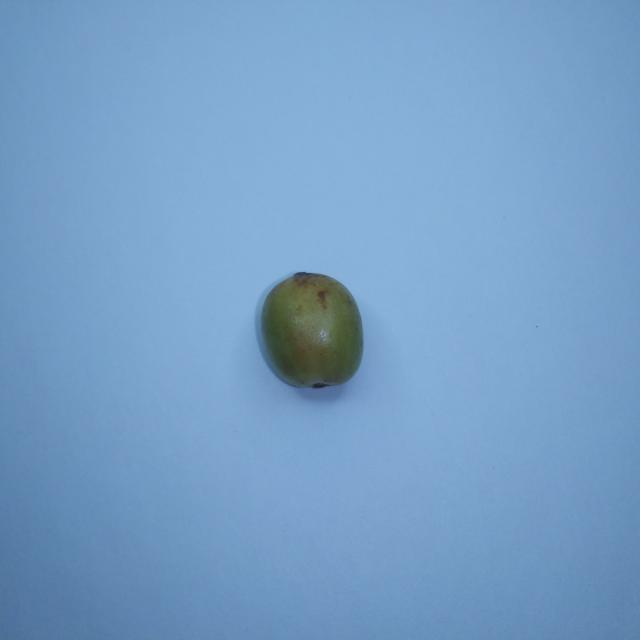Sano: (258, 273, 363, 388)
